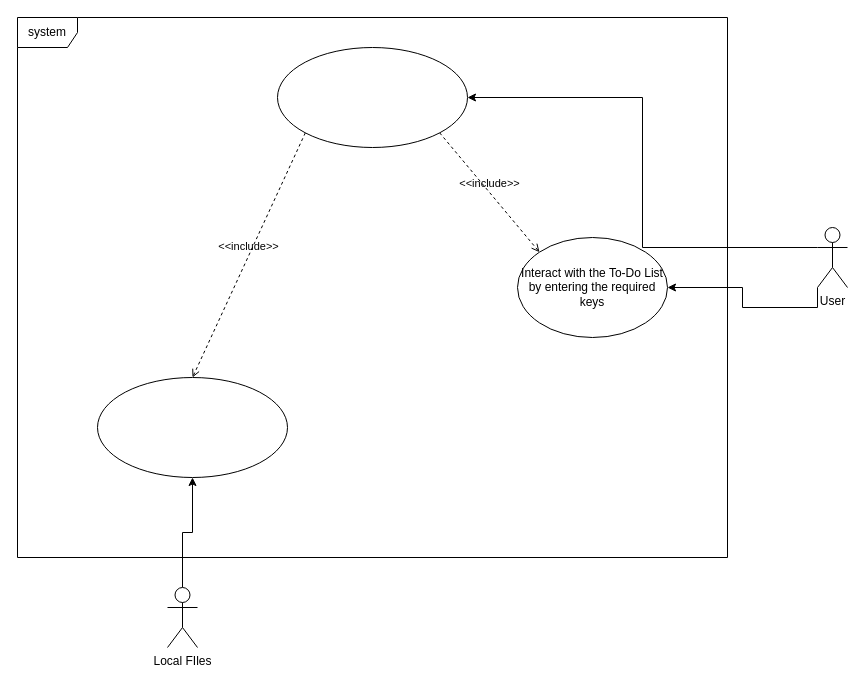
Some shapes in this 865 by 686 pixel diagram are drawn without their labels. The shapes that lost their labels are listed below. From the top down, each one's centre as x and y in pixels, then its label:
the point at 372,97: Check and Modify the To-Do List
the point at 192,427: Read from the local txt file to initialise the To-Do List
